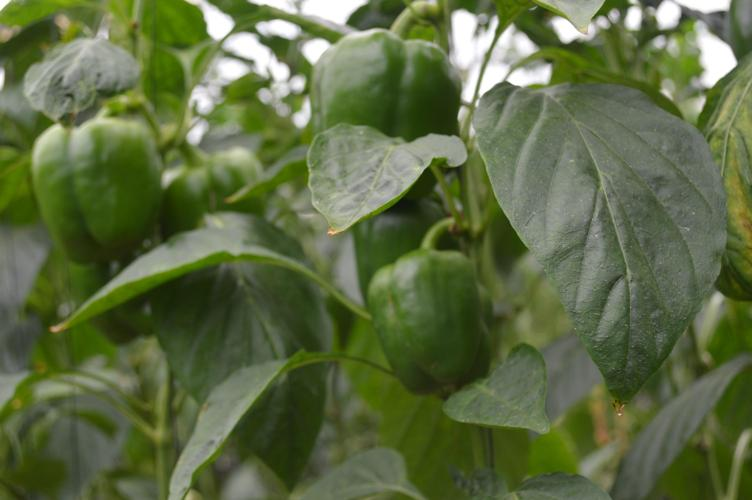BellPepper: (305, 29, 462, 199), (26, 119, 157, 257), (361, 250, 490, 390), (60, 244, 170, 342), (157, 147, 262, 230), (349, 198, 451, 270)
